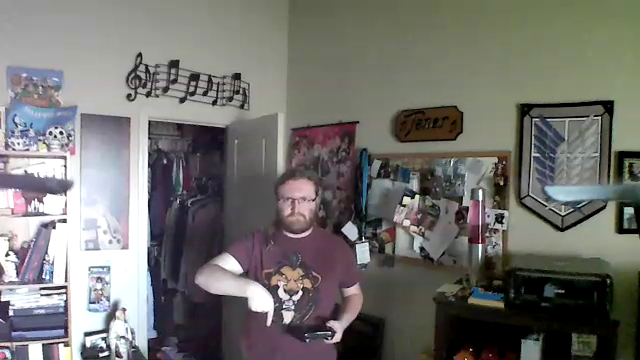down: (243, 276, 277, 334)
